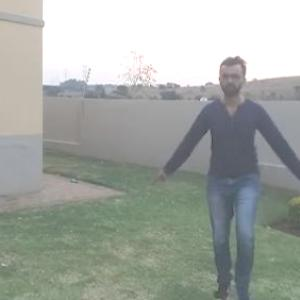land: (157, 52, 299, 299)
